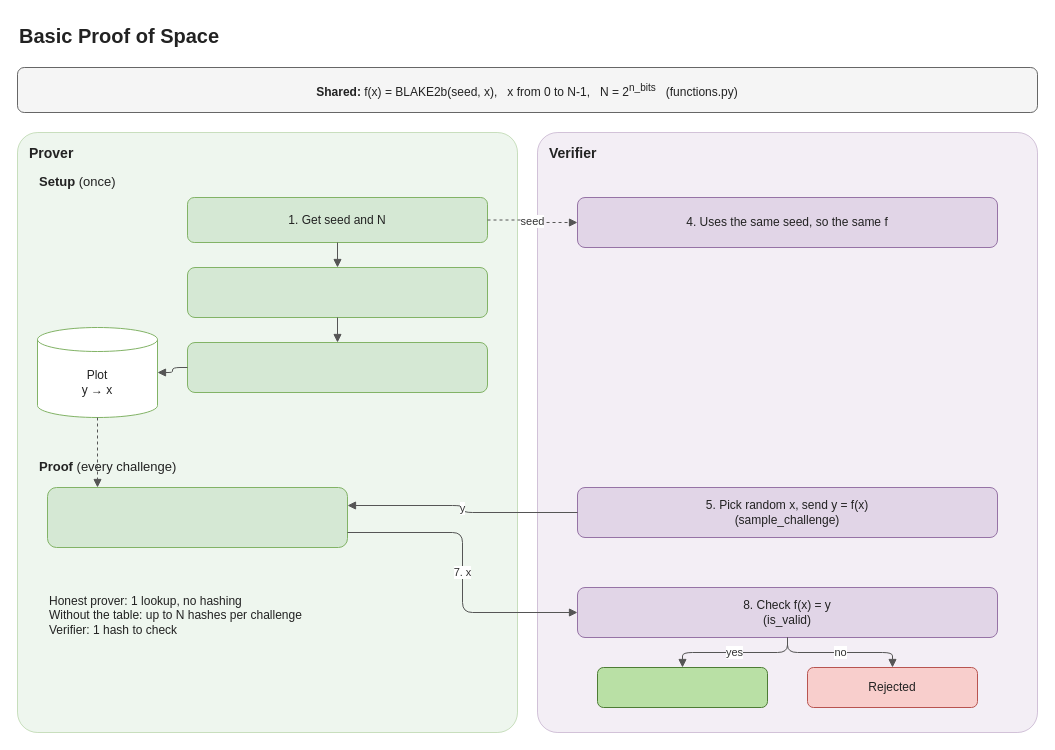
Some shapes in this 1055 by 750 pixel diagram are drawn without their labels. Each missing label, with the centre of its shape:
"2. Compute f(x) for every x (build_plot)" belongs at [337,292].
"3. Store table y → x (Plot)" belongs at [337,367].
"6. Look up y in the table (answer)" belongs at [197,517].
"Accepted" belongs at [682,687].
